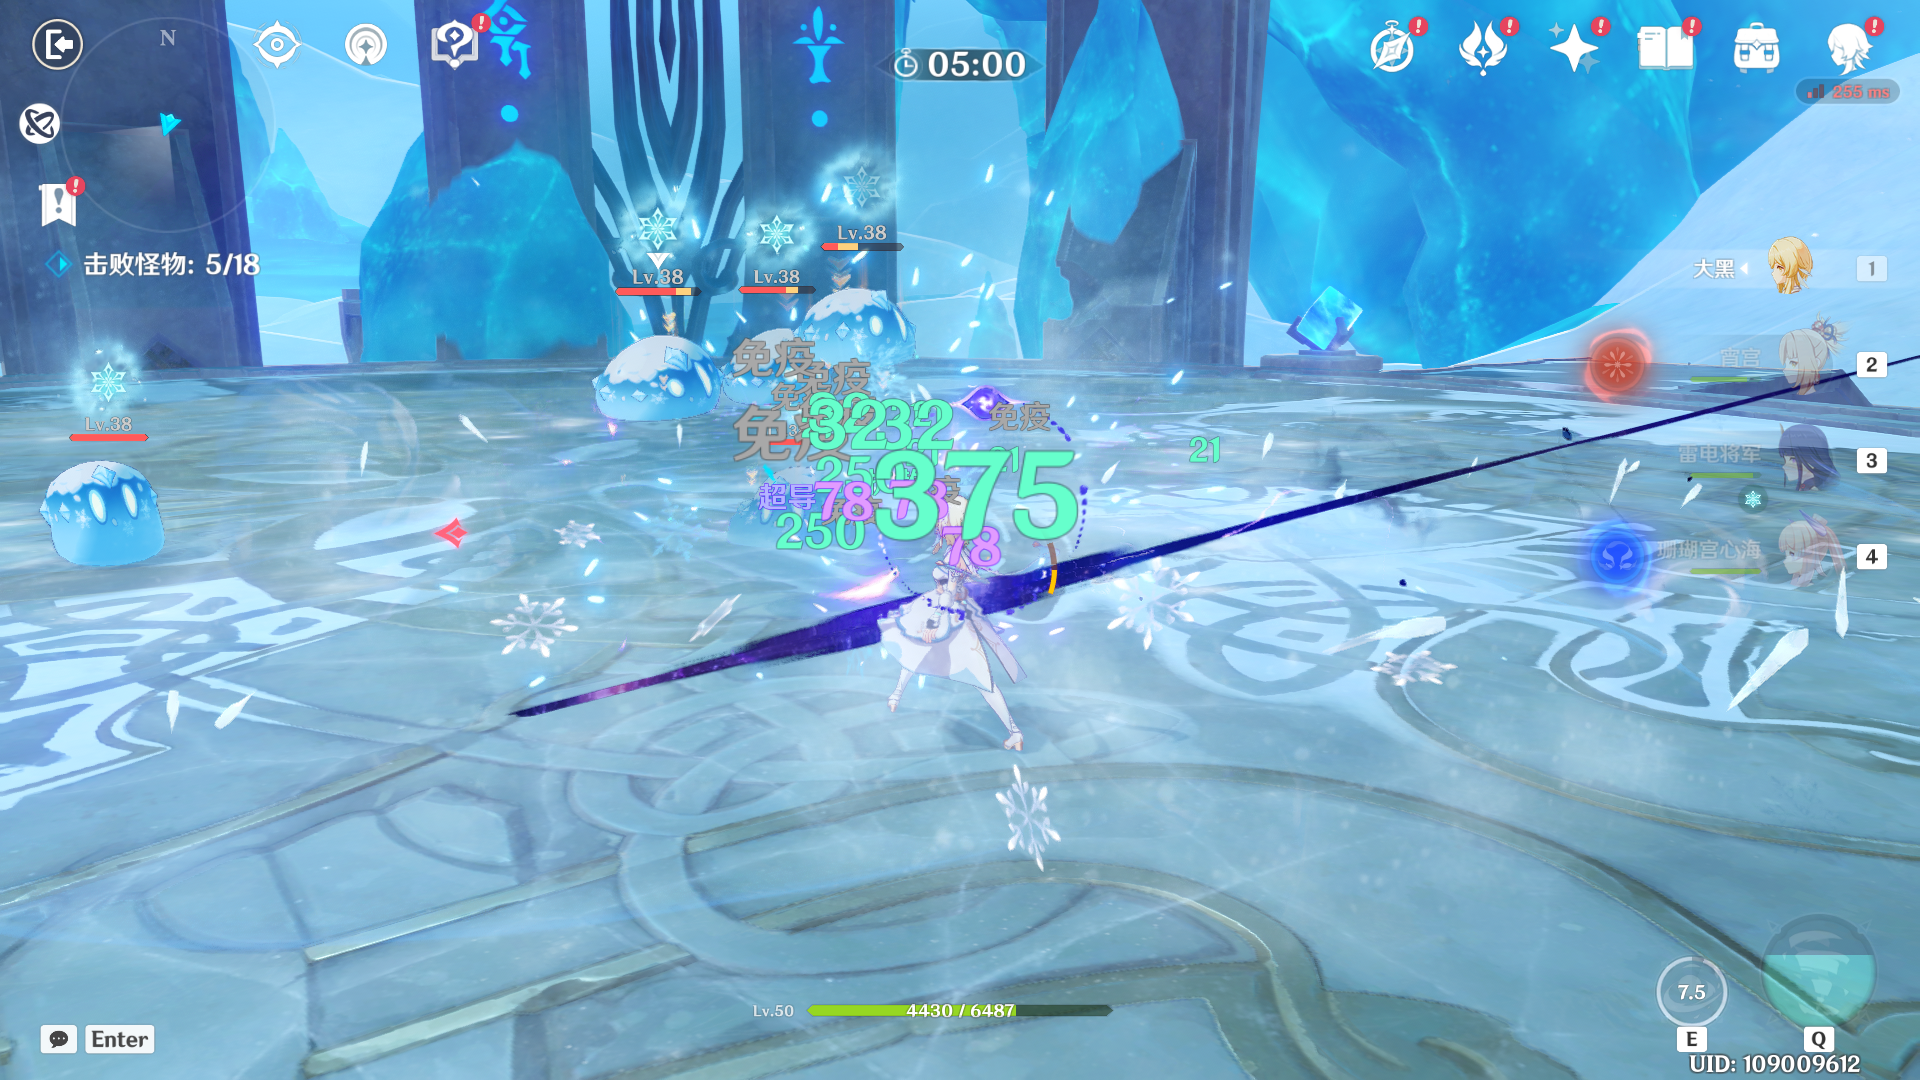character: (858, 489, 1075, 756)
slime: (18, 452, 191, 574), (582, 316, 738, 448), (794, 282, 938, 392), (707, 328, 827, 411)
